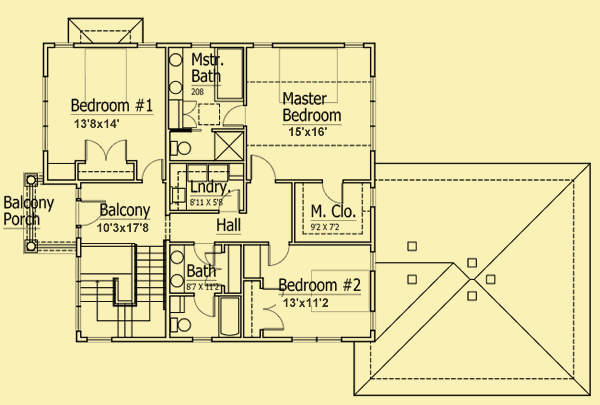door: (258, 285, 288, 333), (81, 137, 131, 163), (247, 152, 278, 185), (76, 198, 109, 228), (320, 176, 348, 205), (265, 238, 291, 269), (191, 240, 219, 267), (139, 156, 166, 184), (221, 102, 250, 127), (217, 186, 241, 216), (191, 290, 217, 317), (181, 95, 197, 129)
large sink: (168, 137, 195, 160), (169, 312, 194, 336)
small sink: (168, 244, 187, 295), (168, 48, 184, 101)
stairs: (76, 241, 168, 343)
windows: (38, 75, 52, 155), (367, 73, 378, 154), (290, 334, 347, 346), (248, 38, 276, 51), (135, 39, 161, 51), (189, 334, 216, 345), (340, 40, 367, 51), (367, 249, 379, 273), (368, 307, 378, 333), (190, 40, 215, 50), (369, 184, 377, 210)
